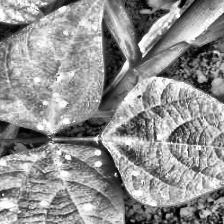Bean Rust: (102, 75, 224, 203), (0, 0, 115, 131), (0, 139, 128, 224)
